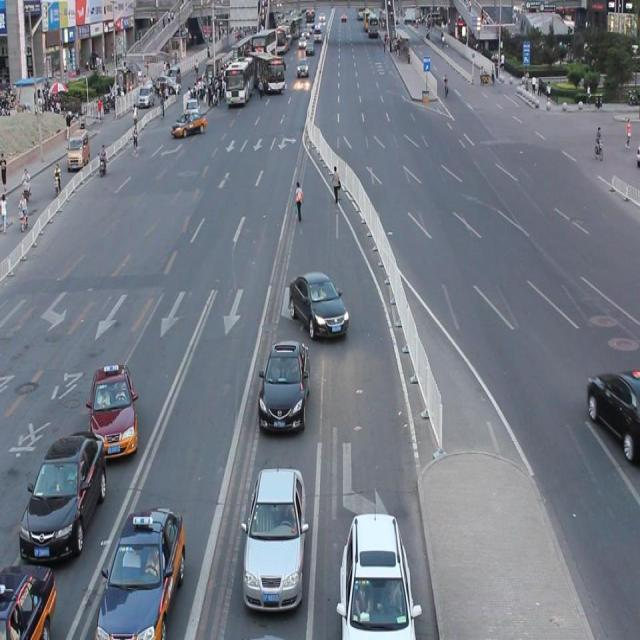car: (96, 501, 188, 640), (19, 428, 106, 566), (338, 509, 417, 640), (240, 463, 306, 612), (584, 366, 640, 462), (256, 337, 310, 435), (88, 360, 140, 461), (0, 560, 56, 640), (288, 268, 350, 340)
